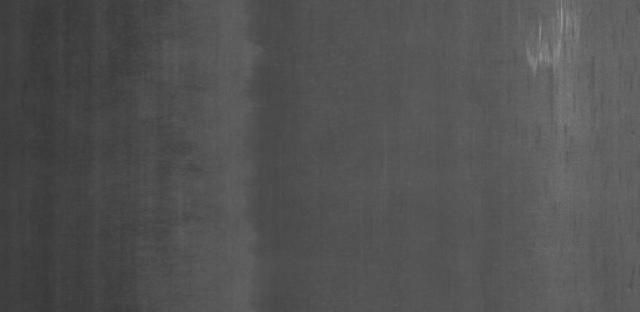silk_spot: (514, 7, 594, 88)
